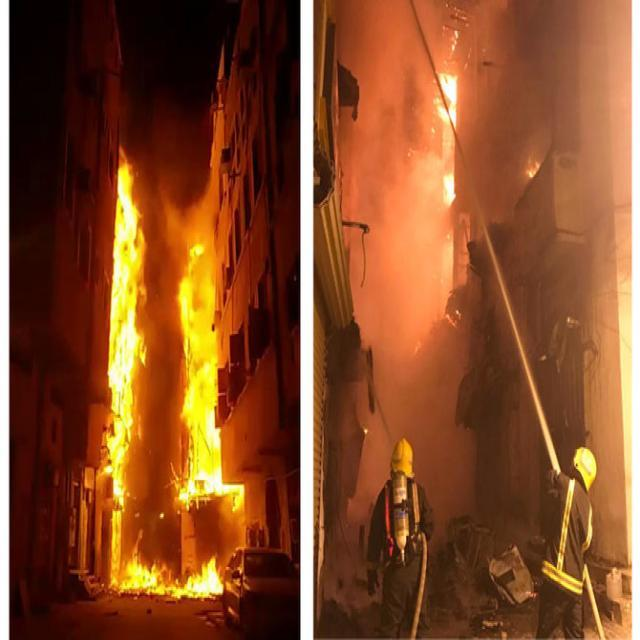Fire: (100, 142, 250, 610)
Smoke: (323, 0, 492, 444)
